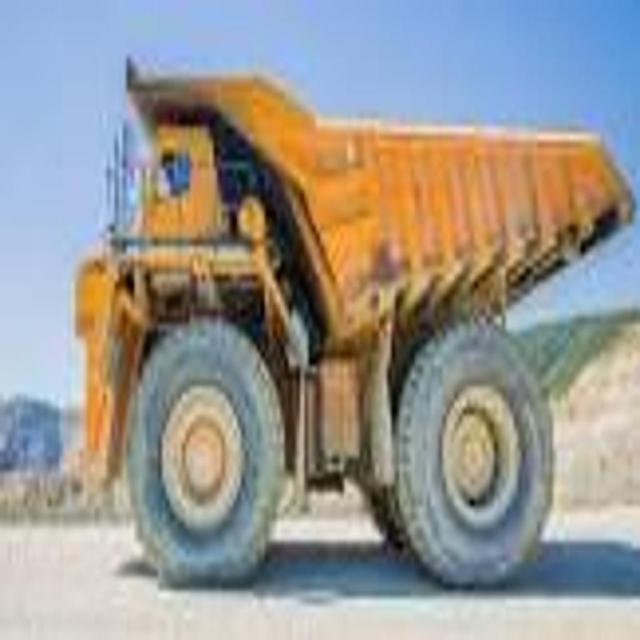dump_truck: (73, 42, 639, 585)
